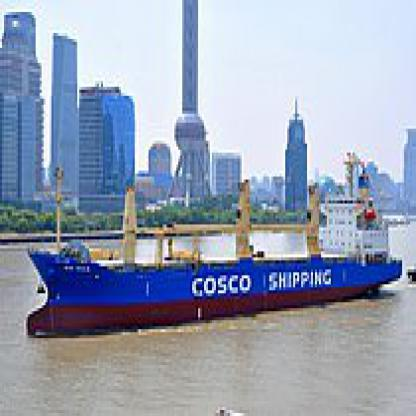Container Ship: (24, 152, 403, 338)
